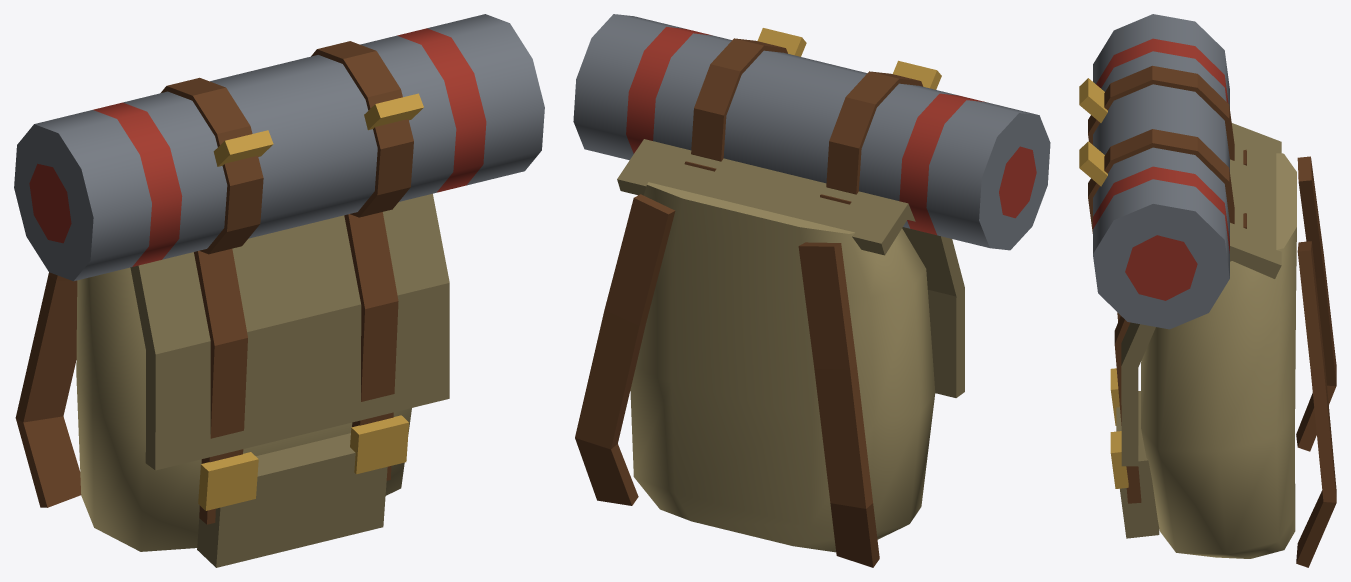
The model's file is backpack.glb.
The picture shows the model from 3 angles, left to right: view 1: azimuth 30°, elevation 25°; view 2: azimuth 150°, elevation 25°; view 3: azimuth 270°, elevation 25°; orthographic projection. The views are drawn at different scales.
Parts seen in each view (by area): view 1: backpack; view 2: backpack; view 3: backpack.
Boxes of the visible parts, <box> form: backpack: <box>14,14,544,567</box>; backpack: <box>573,14,1050,567</box>; backpack: <box>1079,14,1336,567</box>.
Bounding box in the file's own units: 0.274 × 0.2742 × 0.1548.
